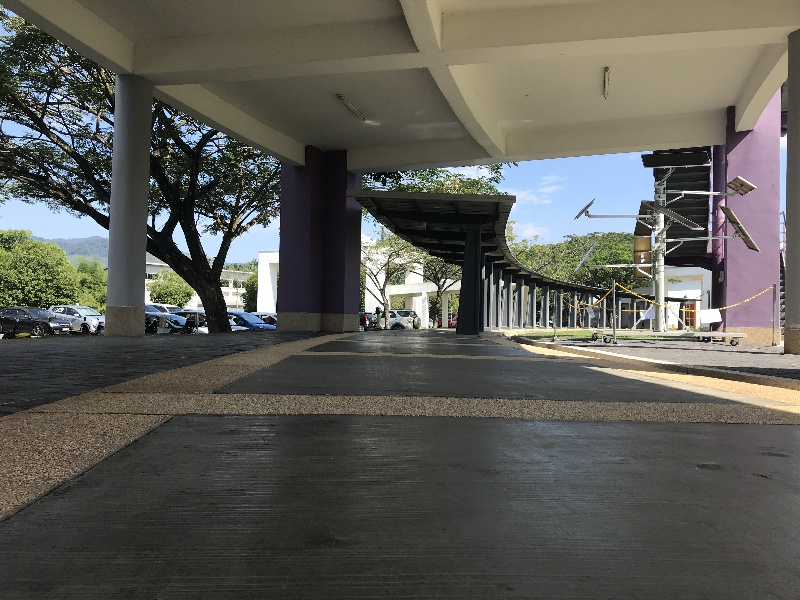Block D Pillar 5: (4, 7, 800, 544)
pillar: (714, 94, 791, 353), (271, 137, 366, 338), (97, 68, 159, 346), (457, 219, 483, 348)
